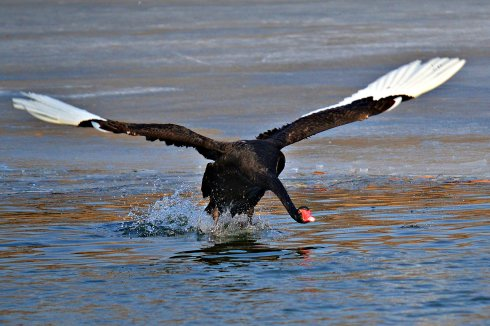bird: (16, 53, 466, 232)
